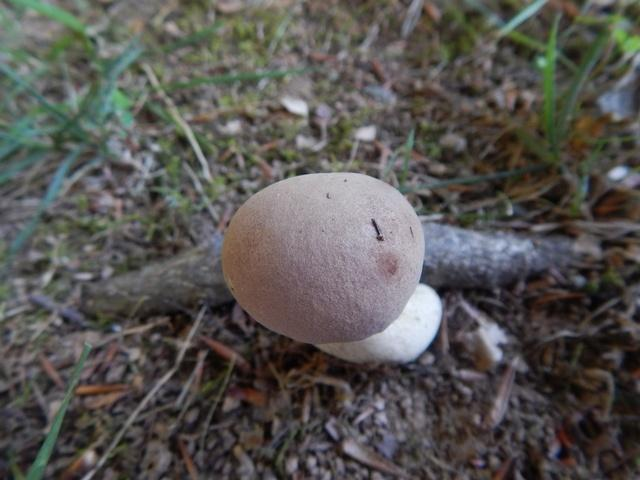Non-edible Mushroom: (219, 169, 442, 363)
